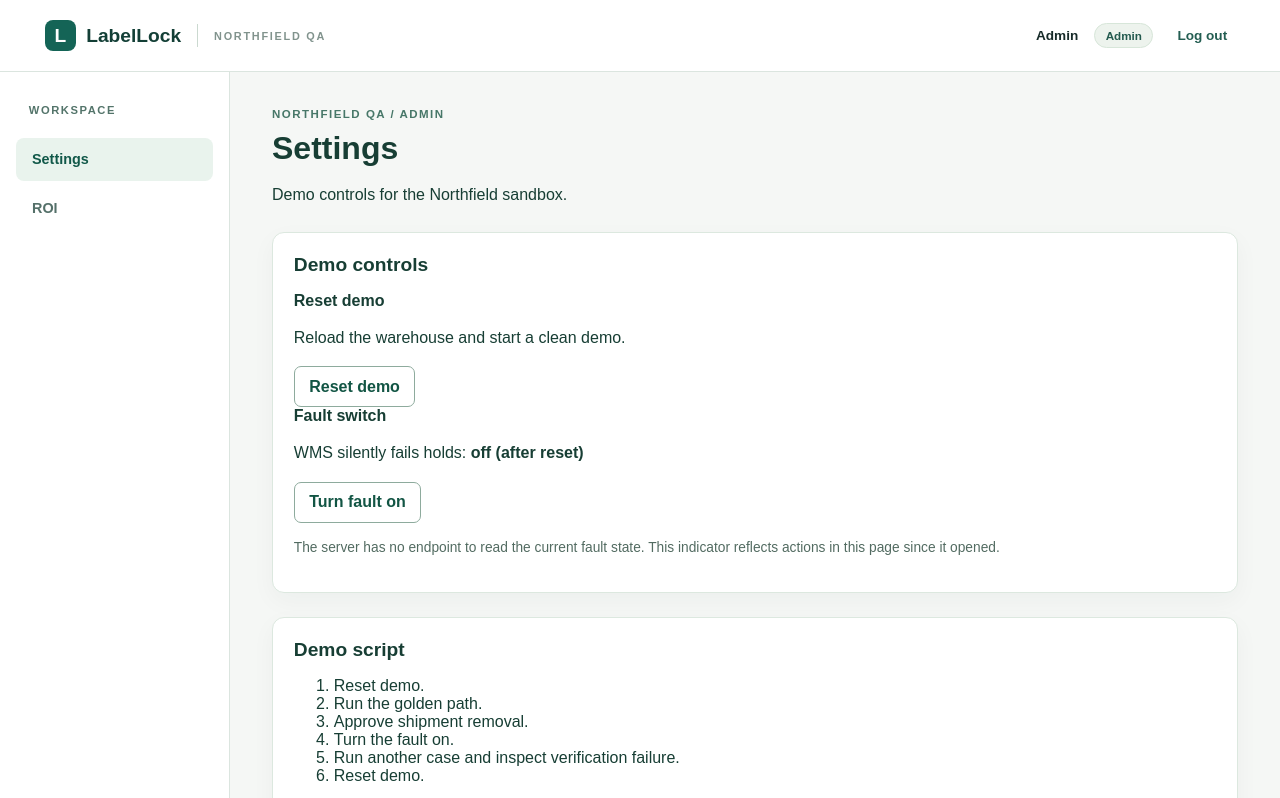
Scenario: demo settings › shows disabled message on 404
The width and height of the screenshot is (1280, 798).
Expected: the heading "Demo controls" is shown, [294,254,428,275]
Click the switch named "WMS silently fails holds": click(358, 502) [294,482,421,523]
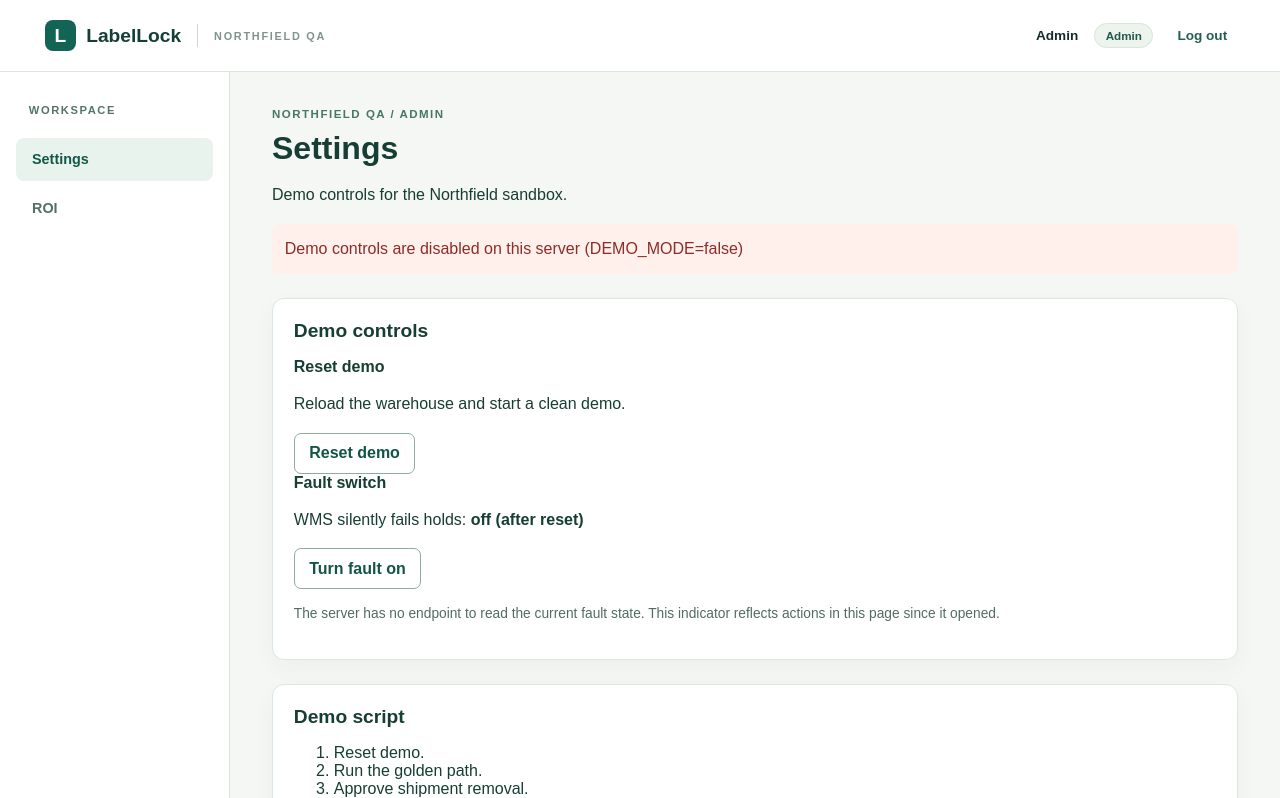
Expected: the message reads "Demo controls are disabled on this server (DEMO_MODE=false)", [285,240,743,257]
